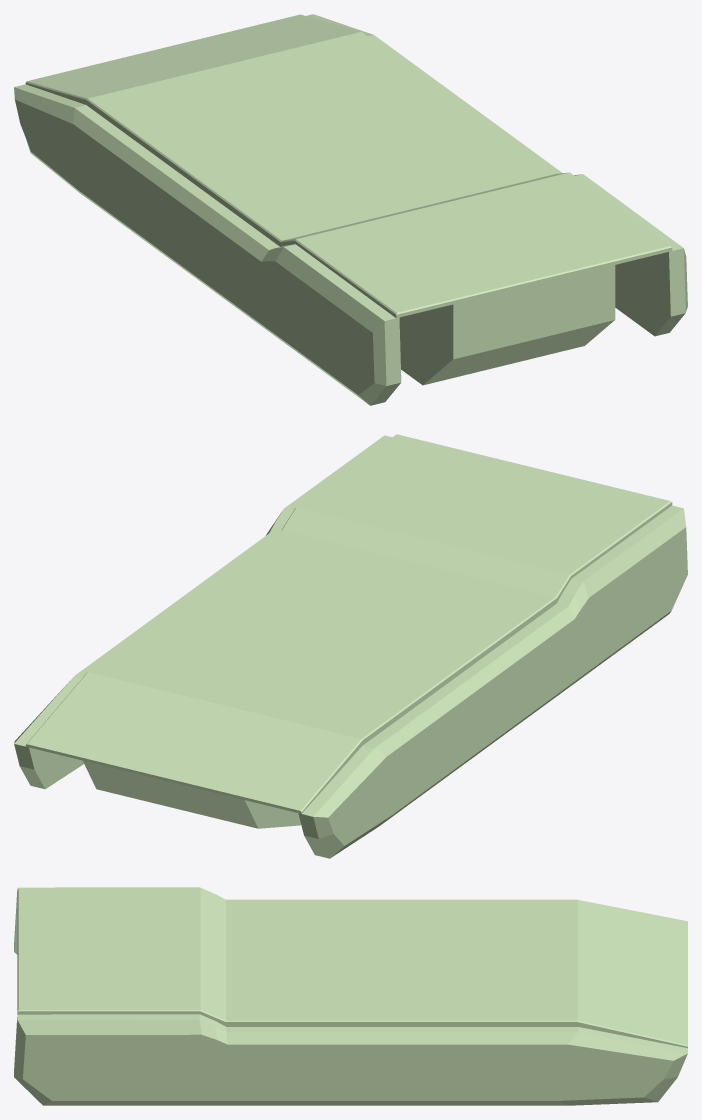
The model's file is tank_body.fbx.
3 renders of one model, top to bottom at view 1: azimuth 30°, elevation 25°; view 2: azimuth 150°, elevation 25°; view 3: azimuth 270°, elevation 25°, orthographic. The views are drawn at different scales.
Visible parts, largest first — view 1: Tank; view 2: Tank; view 3: Tank.
Part boxes in pixels (x1,y1,x2,y2): Tank: (14,14,687,405); Tank: (14,434,687,858); Tank: (14,887,687,1105).
Bounding box in the file's own units: 84.52 × 27.82 × 174.
